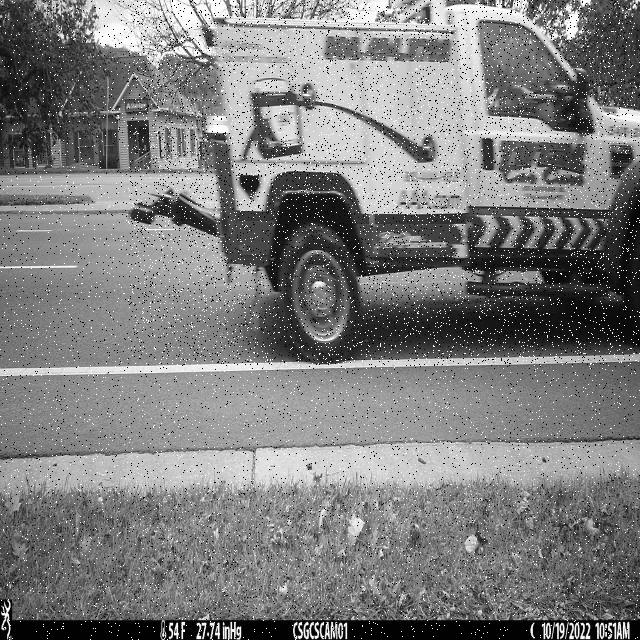Tow Truck: (128, 0, 640, 365)
